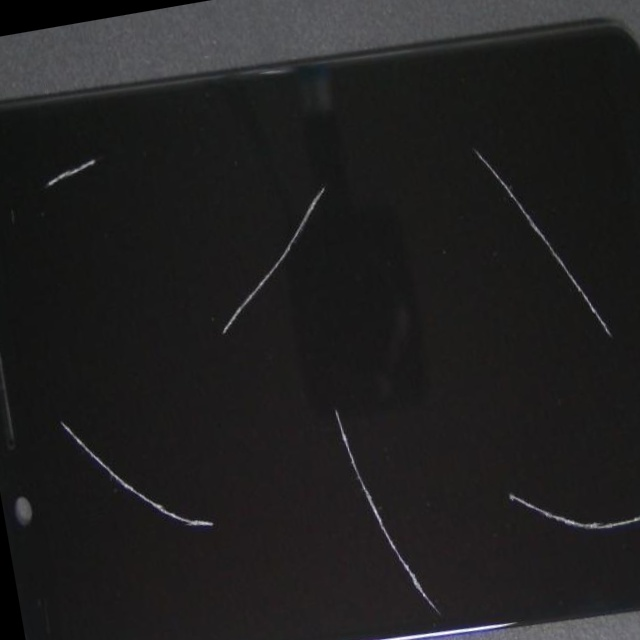scratch: (70, 56, 576, 640), (133, 0, 640, 414), (180, 0, 475, 340)
